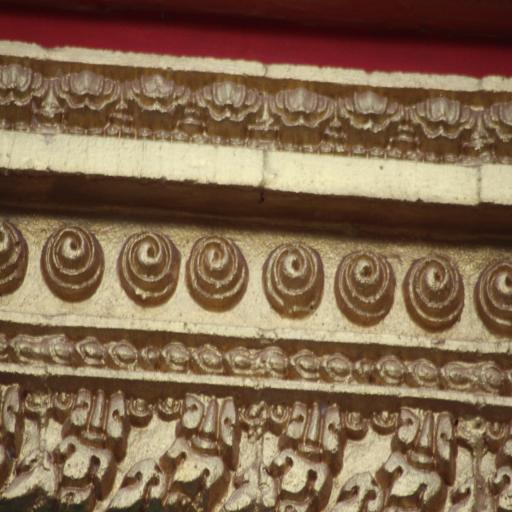hoa: (184, 230, 251, 312), (118, 221, 181, 308), (46, 223, 103, 306), (404, 251, 466, 327), (262, 240, 323, 317), (335, 248, 392, 324), (0, 216, 34, 291), (482, 256, 512, 333)
la: (1, 378, 122, 512), (119, 392, 247, 512), (341, 402, 458, 512), (233, 402, 349, 512)
